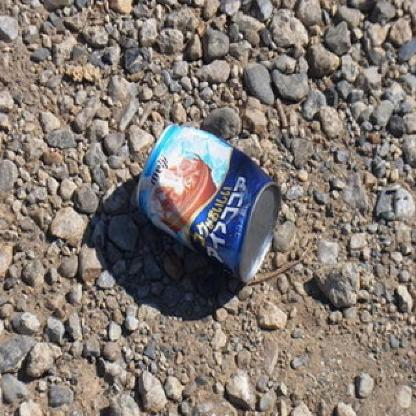Can: (134, 120, 282, 282)
